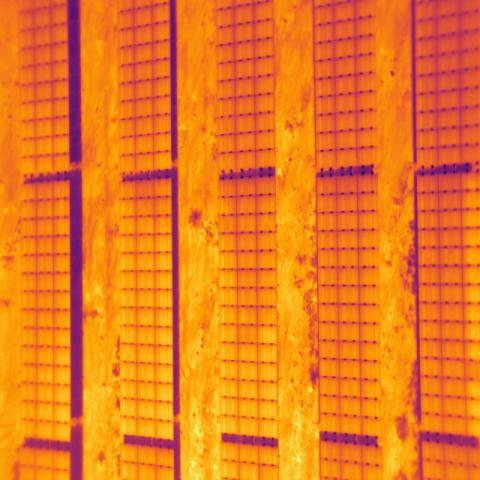fault: (460, 173, 480, 360), (466, 379, 480, 440)
